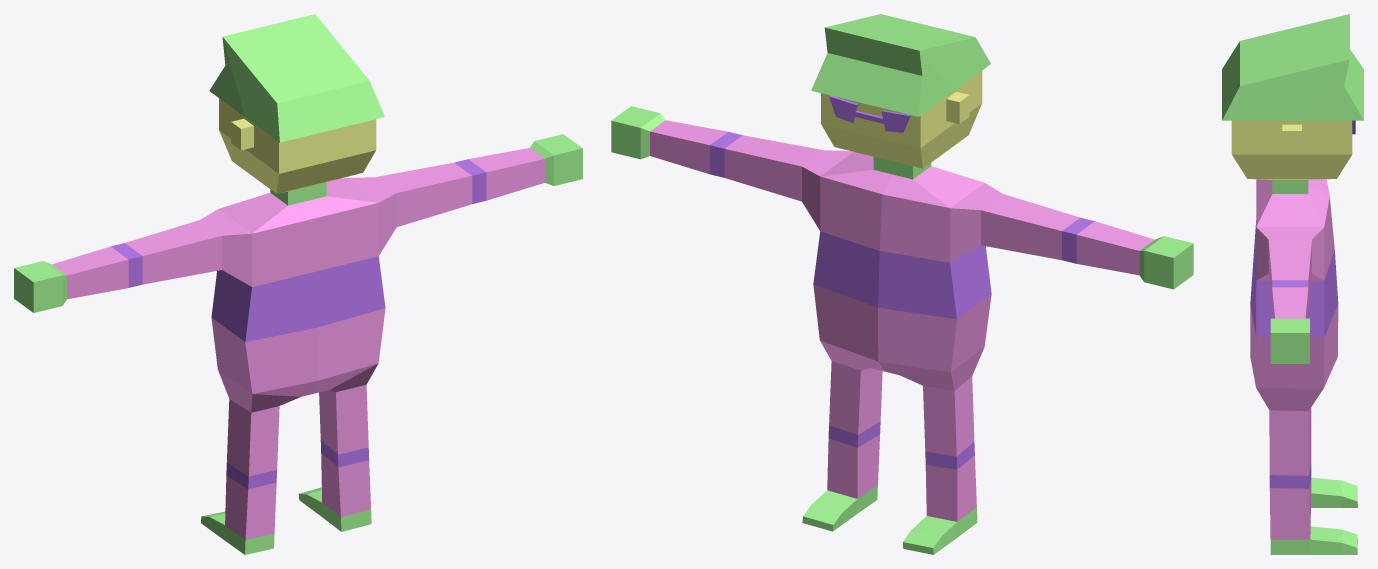
Rendered from character_0.fbx.
3 renders of one model, left to right at view 1: azimuth 30°, elevation 25°; view 2: azimuth 150°, elevation 25°; view 3: azimuth 270°, elevation 25°, orthographic. The views are drawn at different scales.
Parts seen in each view (by area): view 1: FutureMan; view 2: FutureMan; view 3: FutureMan.
Part boxes in pixels (<box>): FutureMan: <box>14,14,582,554</box>; FutureMan: <box>611,14,1193,554</box>; FutureMan: <box>1222,14,1363,554</box>.
Bounding box in the file's own units: 2.41 × 0.5365 × 2.04.
